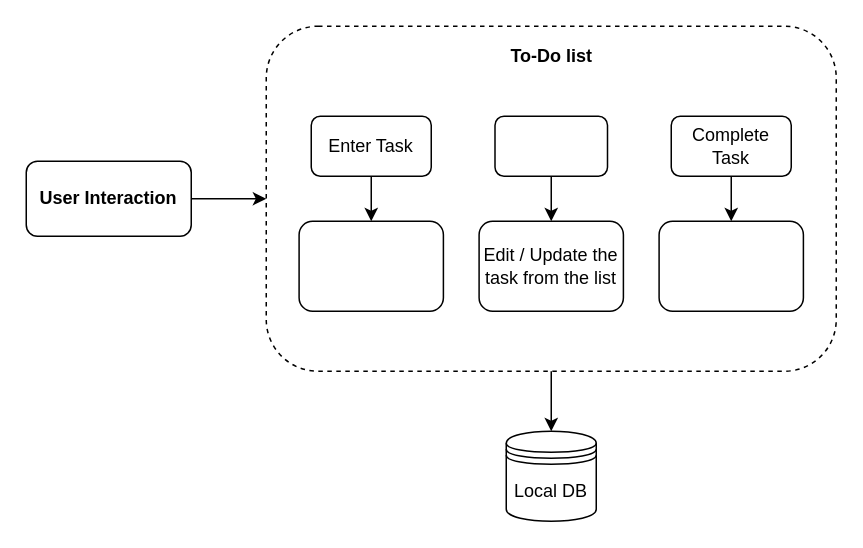
This 863x548 diagram has some shape labels left out. The box of each missing label's shape, as (x1, y1, x2, y2) in pixels:
Add task to the ordered list: (298, 220, 443, 311)
Edit Task: (494, 115, 608, 176)
Strike through the completed task: (658, 220, 803, 311)
